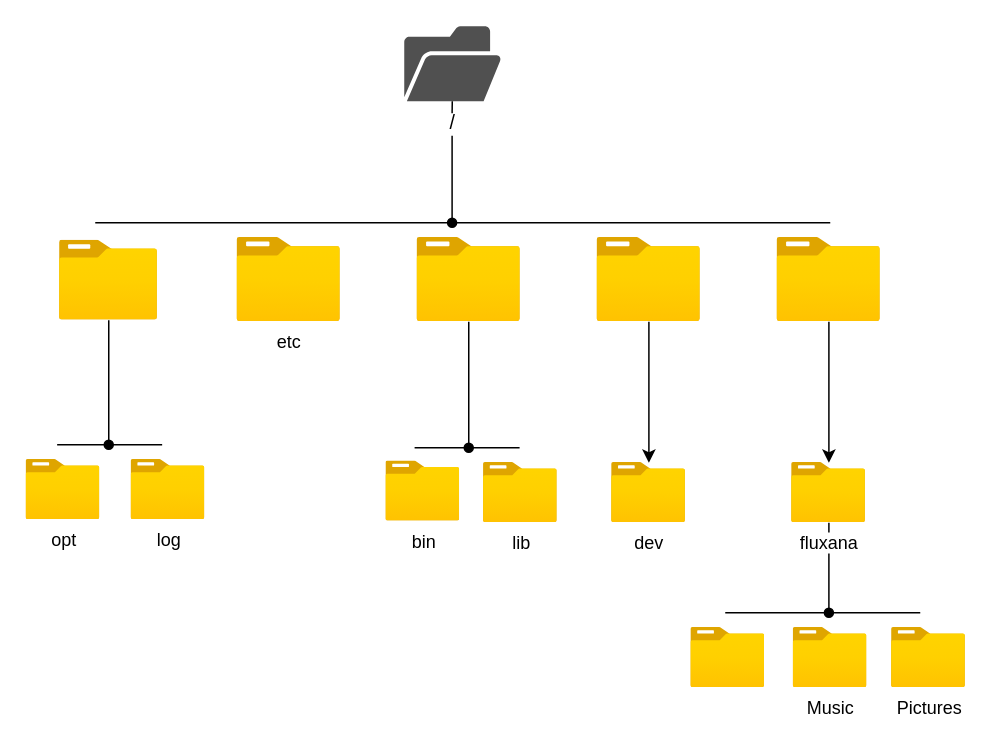
Image size: 992x744. Some labels were removed from this diagram. Here are the shapes that lost their labels. From the top down, the centre of each, then its label:
(108,280): var
(468,279): usr
(648,279): sys
(828,279): home
(727,657): Documents
